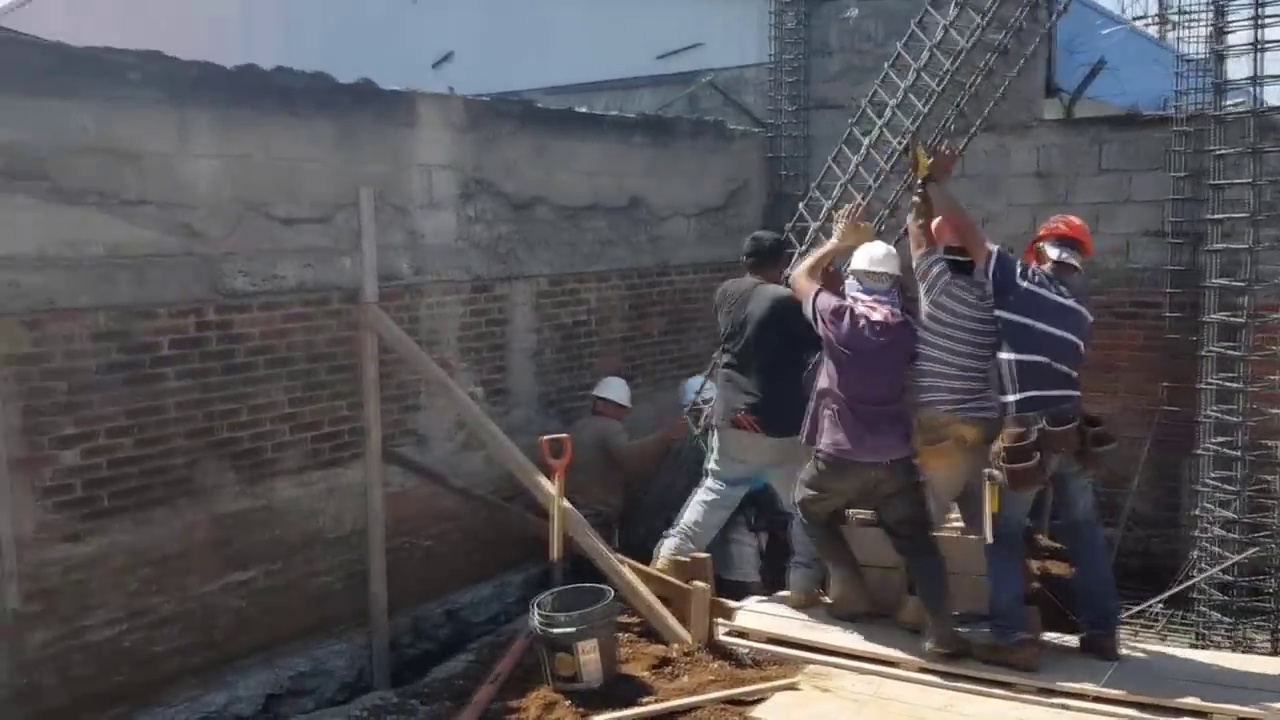helmet: (1033, 214, 1095, 276), (845, 235, 906, 283), (584, 375, 633, 407), (934, 216, 969, 250), (681, 377, 718, 409)
helmet-off: (740, 231, 789, 287)
helmet-on: (1009, 203, 1100, 294), (844, 239, 907, 330), (931, 214, 981, 283), (585, 376, 634, 429)
person: (794, 224, 951, 667), (977, 202, 1121, 659), (666, 233, 833, 615), (908, 163, 994, 643), (539, 377, 648, 534)
